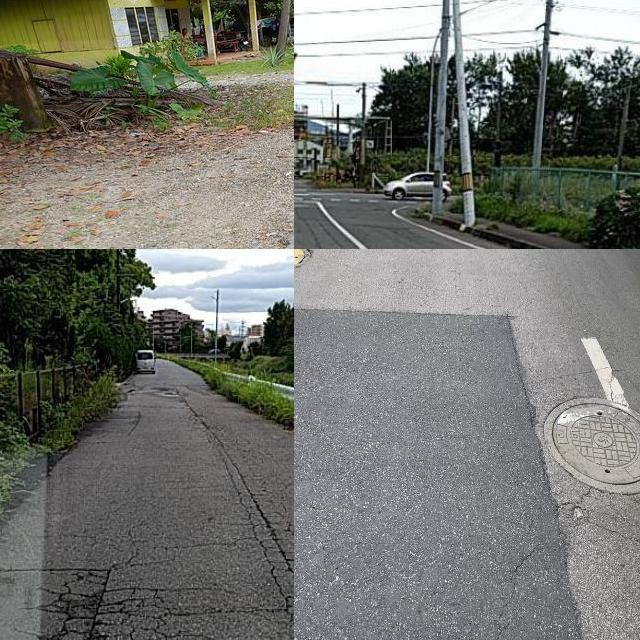Lubang: (548, 400, 640, 493)
Retak Buaya: (46, 483, 294, 640)
Sambungan: (294, 306, 582, 640)
